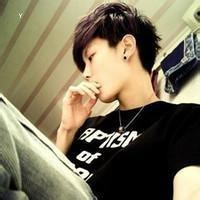face: (80, 33, 122, 103)
